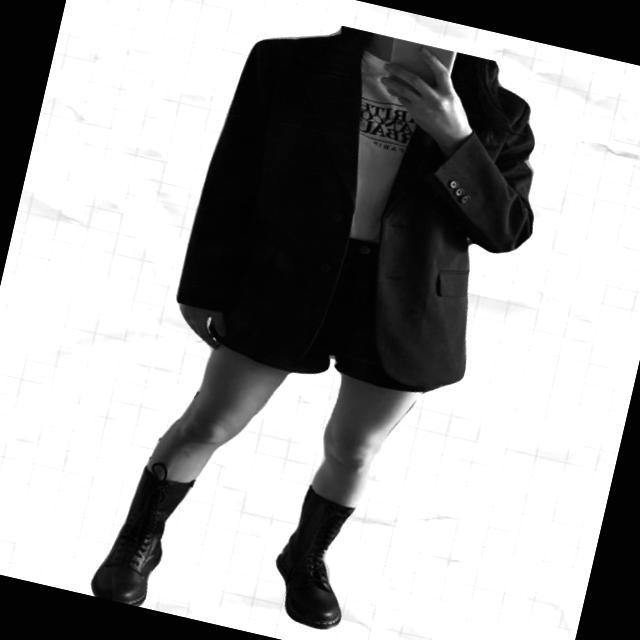blazer: (165, 8, 567, 409)
shortpants: (201, 206, 468, 401)
